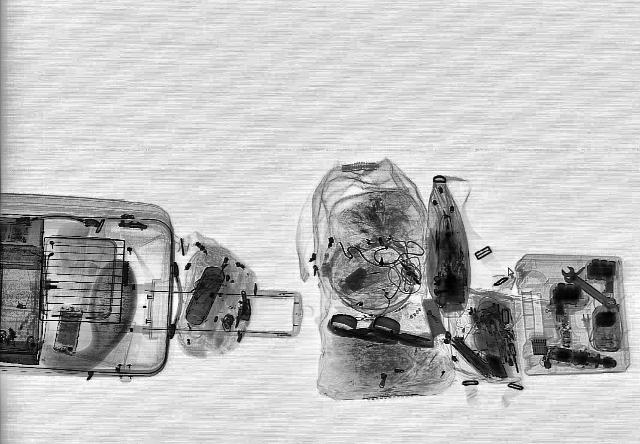Wrench: (556, 264, 620, 308), (561, 273, 617, 313)
